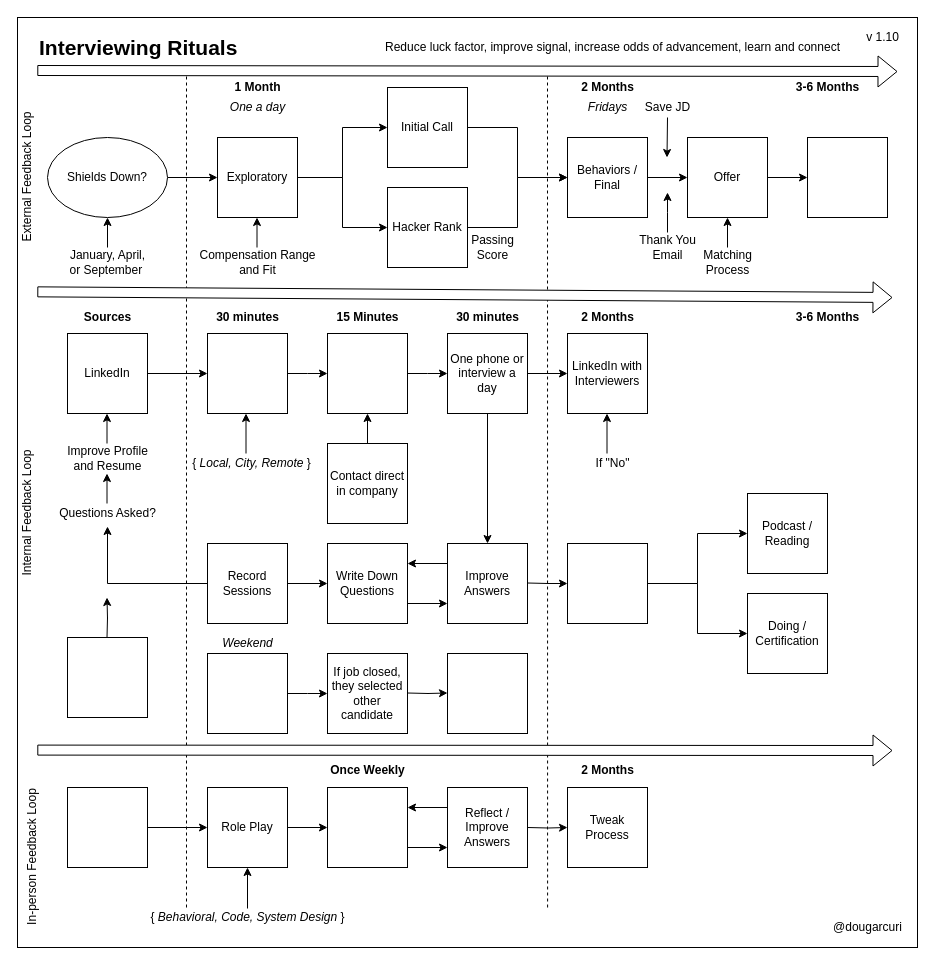
Image size: 935x965. Some labels were removed from this diagram. The centre of each missing label's shape, as x and y in pixels:
"Aggregate job postings" belongs at (x=247, y=373).
"Apply to one a day" belongs at (x=367, y=373).
"Clean up contacted by reviewing postings" belongs at (x=247, y=693).
"Feedback" belongs at (x=367, y=827).
"Lunch / Coffee's" belongs at (x=107, y=677).
"Research / Hydrate Gaps" belongs at (x=607, y=583).
"Start" belongs at (x=847, y=177).
"Study Buddy" belongs at (x=107, y=827).
"Update metrics" belongs at (x=487, y=693).
